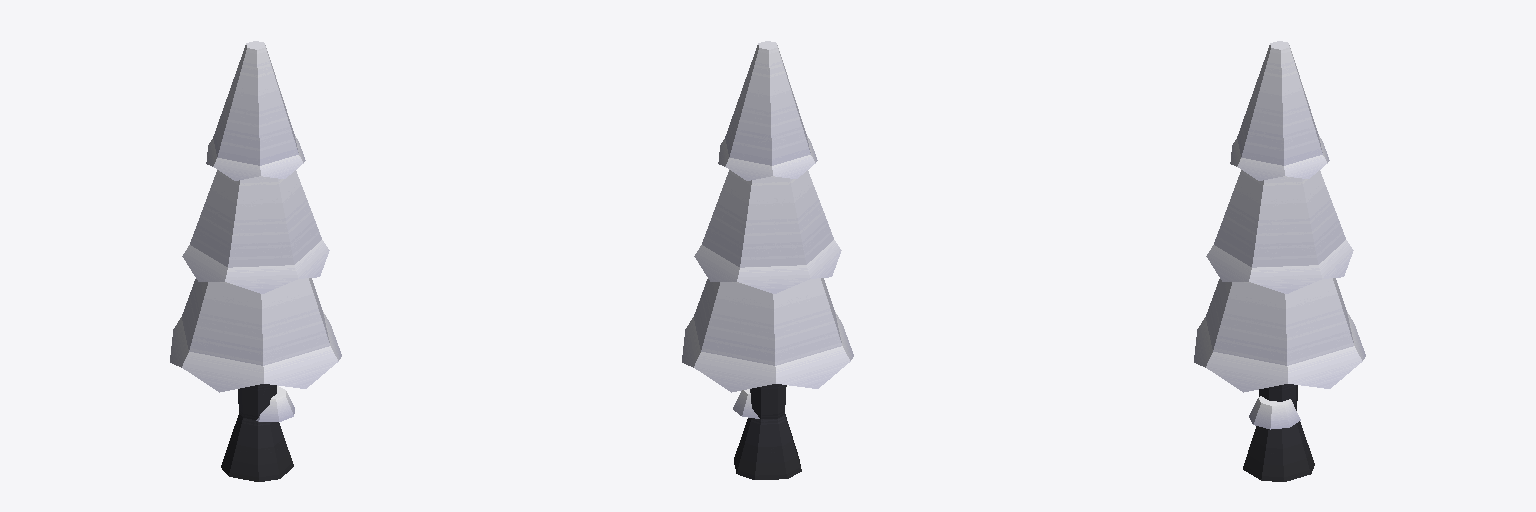
3 views of the same model, side by side, from view 1: azimuth 30°, elevation 25°; view 2: azimuth 150°, elevation 25°; view 3: azimuth 270°, elevation 25° (orthographic).
Visible parts, largest first — view 1: tree.015; view 2: tree.015; view 3: tree.015.
Boxes of the visible parts, x1=… form: tree.015: x1=170, y1=41, x2=341, y2=481; tree.015: x1=682, y1=41, x2=853, y2=479; tree.015: x1=1194, y1=41, x2=1365, y2=481.
Bounding box in the file's own units: 1.36 × 3.47 × 1.29.
1 materials, 1 textured.